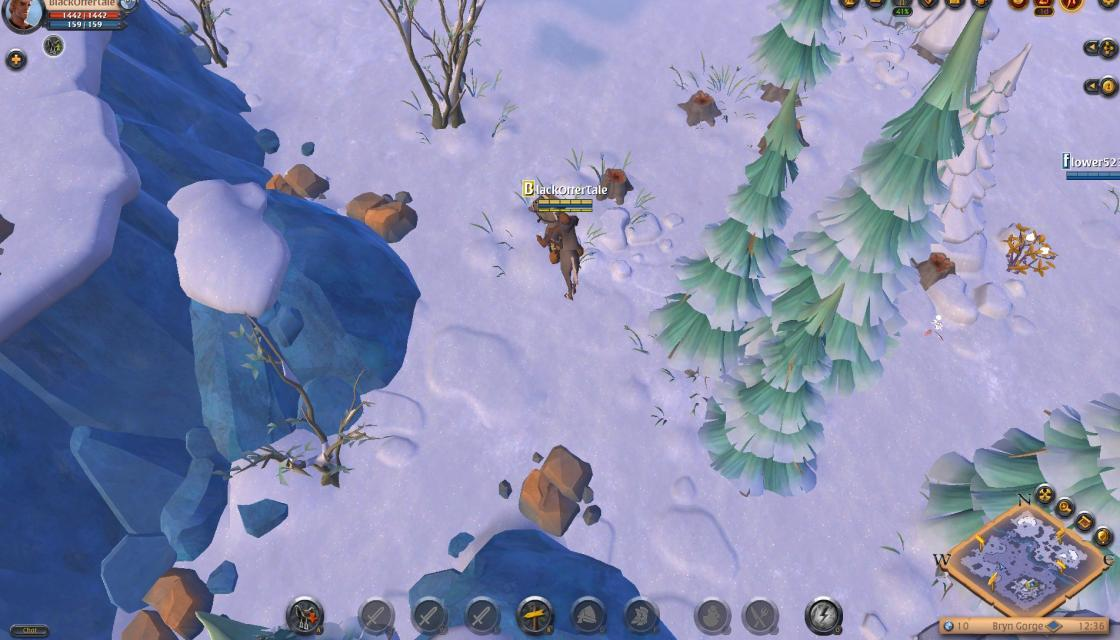limestone: (516, 444, 602, 536), (120, 562, 216, 636), (344, 187, 421, 243), (264, 160, 331, 204)
